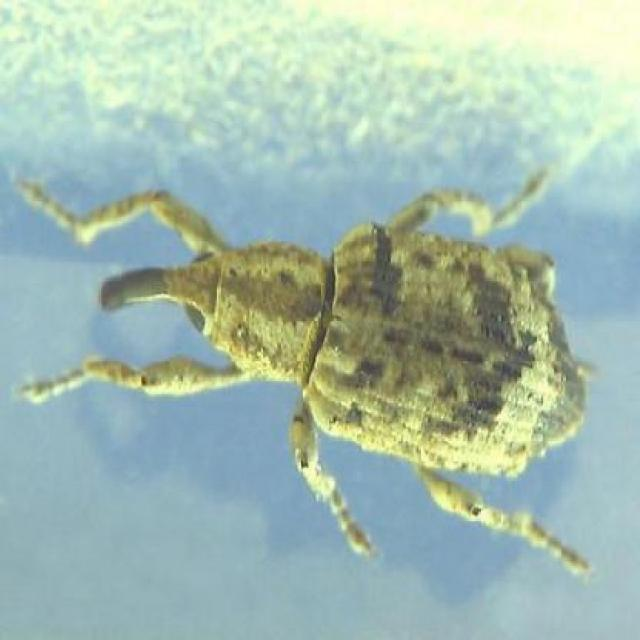rice-bug: (97, 171, 601, 500)
